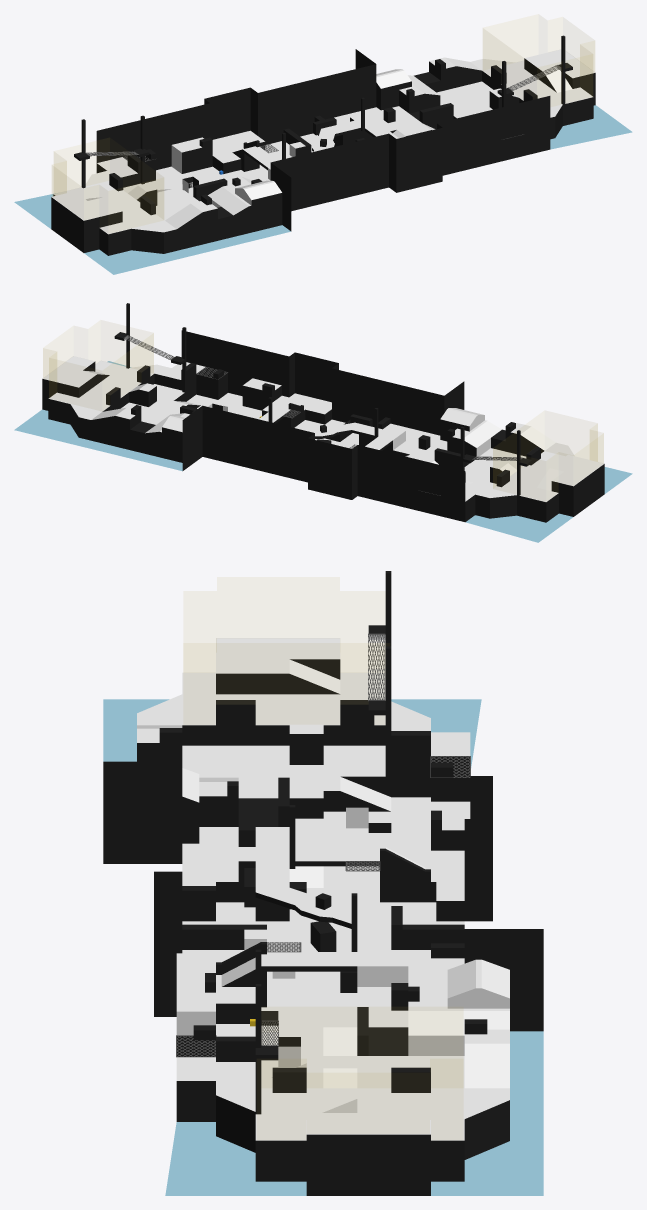
Rendered from gonzui_nawabari.glb.
3 renders of one model, top to bottom at view 1: azimuth 30°, elevation 25°; view 2: azimuth 150°, elevation 25°; view 3: azimuth 270°, elevation 25°, orthographic. The views are drawn at different scales.
Visible parts, largest first — view 1: terrain, respawn, wire mesh.001; view 2: terrain, respawn, wire mesh.001; view 3: terrain, respawn, wire mesh.001, wire mesh.002, board, balloon S.001.
Part boxes in pixels (x1,y1,x2,y2): terrain: (14, 35, 632, 274); respawn: (52, 28, 594, 219); wire mesh.001: (85, 65, 561, 156); terrain: (14, 303, 632, 542); respawn: (43, 333, 603, 488); wire mesh.001: (123, 335, 522, 460); terrain: (103, 571, 543, 1195); respawn: (184, 643, 462, 1087); wire mesh.001: (261, 633, 385, 1045); wire mesh.002: (176, 756, 470, 1057); board: (244, 868, 402, 945); balloon S.001: (238, 823, 408, 1010).
Bounding box in the file's own units: 104 × 16.5 × 39.
